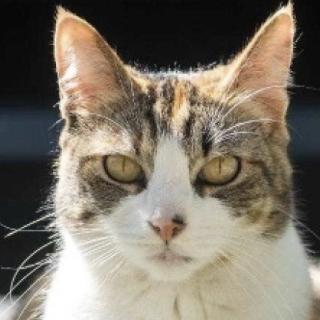cat: (52, 9, 294, 292)
nose: (140, 194, 188, 245)
